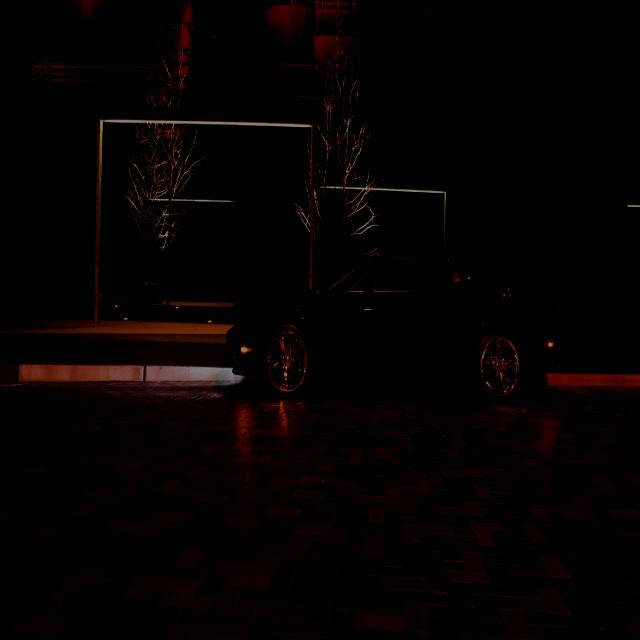Car: (225, 241, 569, 403)
